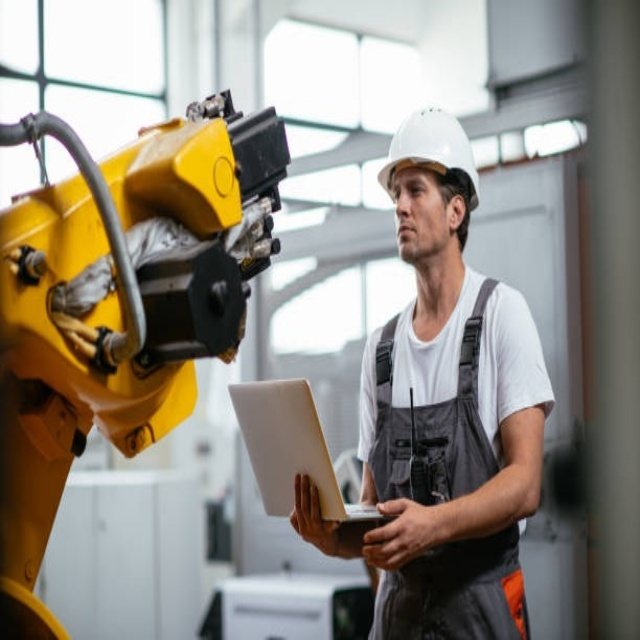Sin_gafas: (389, 177, 437, 209)
Sin_guantes: (290, 471, 360, 560), (358, 497, 439, 572)
Sin_mascara: (395, 216, 419, 253)
